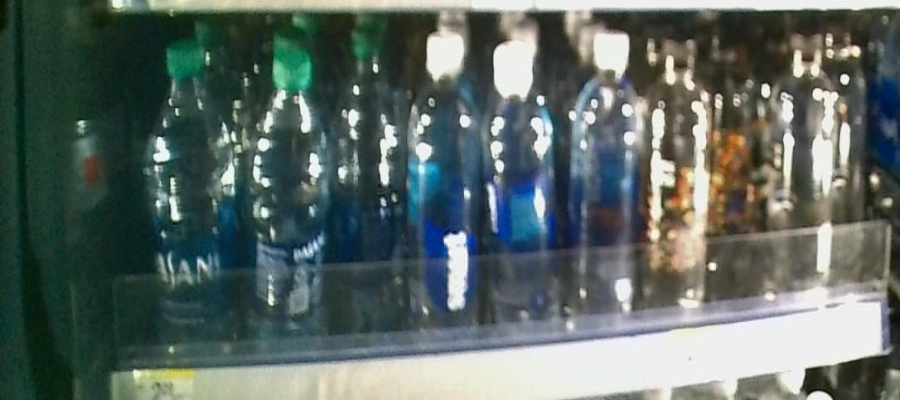bottle: (142, 40, 237, 354), (248, 46, 329, 350), (567, 25, 638, 328), (411, 33, 480, 336), (336, 33, 404, 333), (486, 32, 554, 313), (646, 43, 709, 310)
